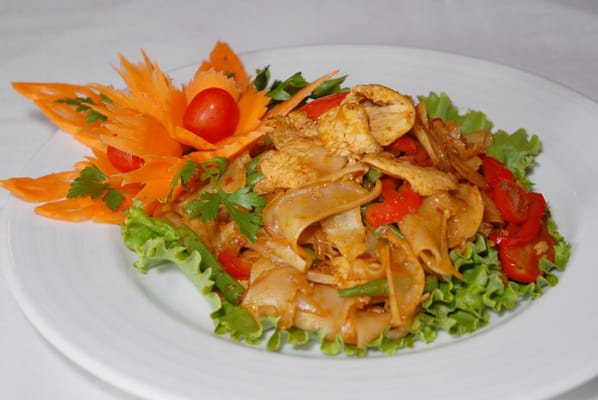pizza: (8, 46, 271, 221), (12, 81, 184, 165), (35, 197, 128, 226)
